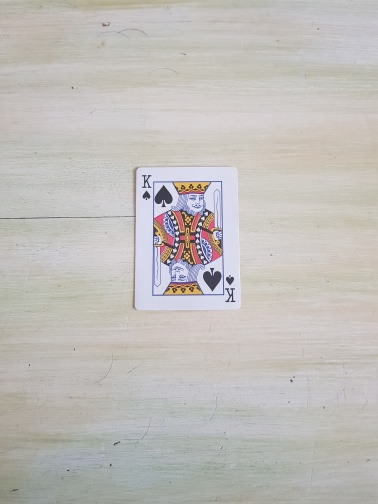king: (132, 165, 243, 312)
